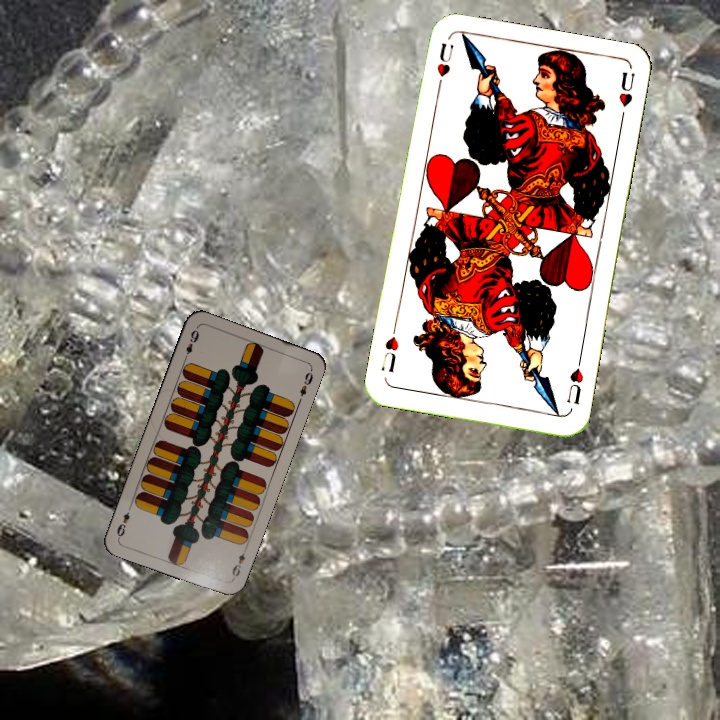E9: (228, 543, 250, 582), (180, 326, 202, 363)
HU: (432, 38, 457, 95), (563, 354, 586, 408)
